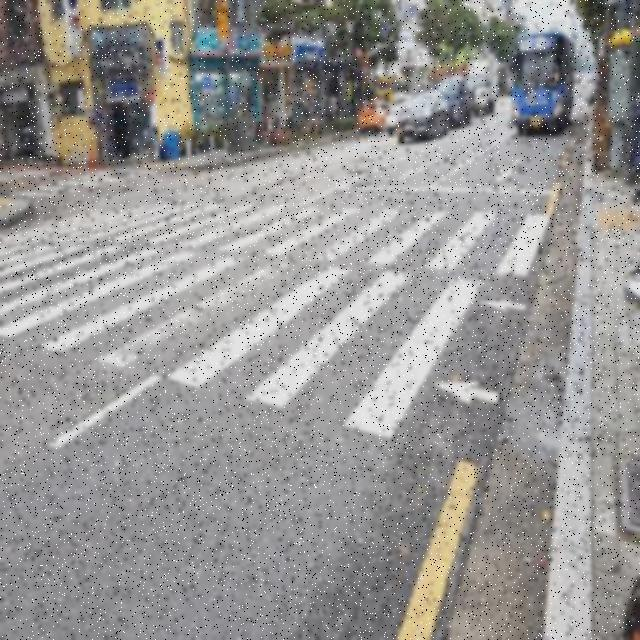Pedestrian crosswalk: (0, 205, 554, 445), (23, 162, 149, 231)
